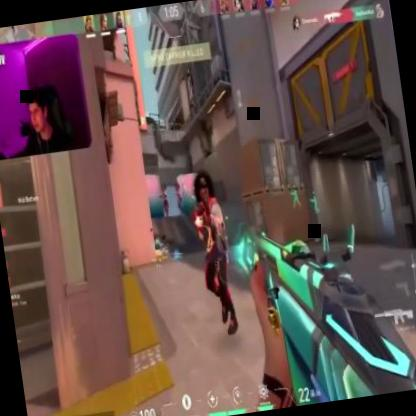enemy: (186, 168, 240, 339), (158, 183, 171, 215), (173, 181, 184, 214)
enemy_head: (192, 172, 216, 206), (160, 183, 166, 192), (174, 182, 180, 191)
